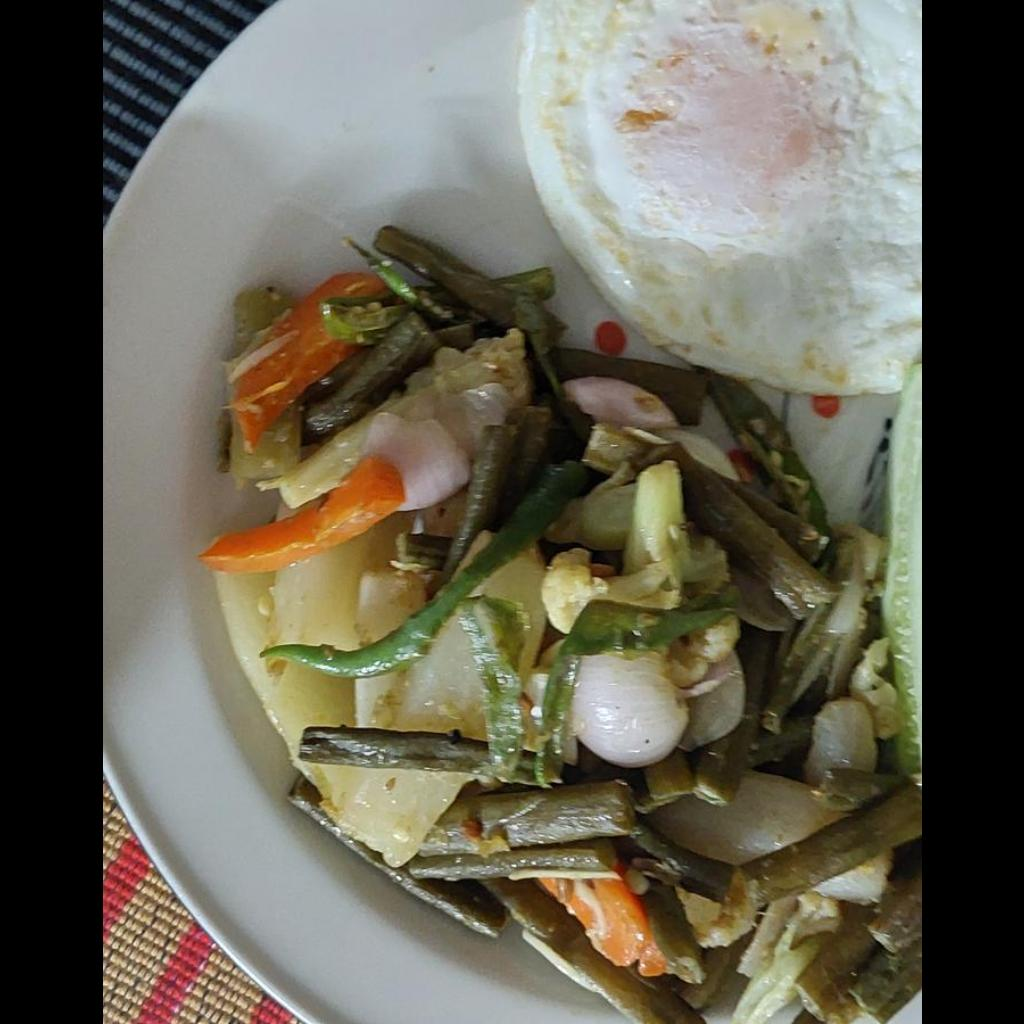egg-poached: (526, 0, 919, 393)
vegetable: (198, 225, 920, 1023)
